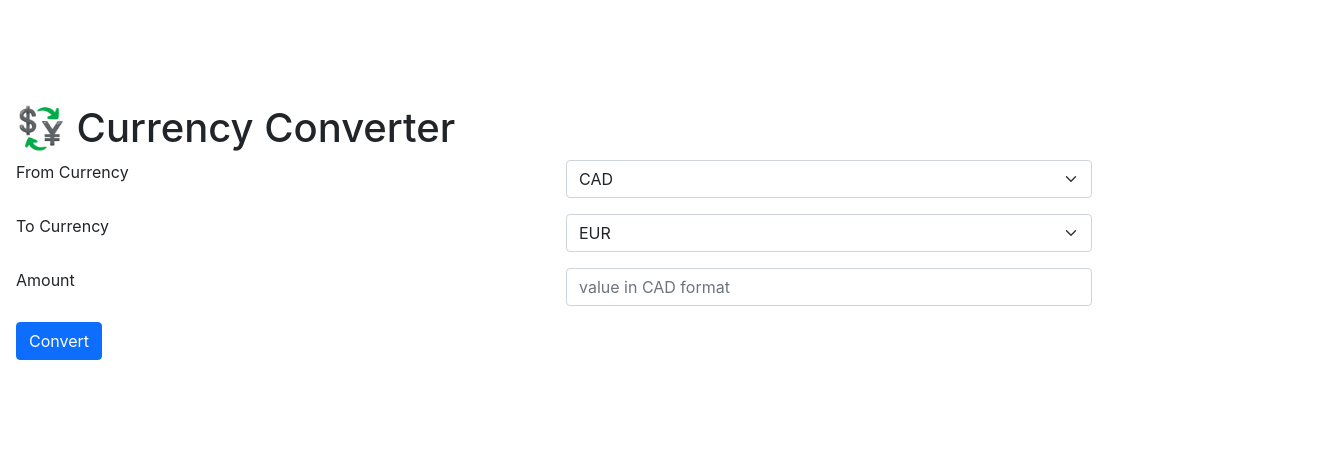
Scenario: Exchange › Should fetch the exchange rate when the user clicks the convert button
The image size is (1329, 449).
Type "5" into the number field with test id "enteredValue".
click(829, 287); type("5")  # box [566,268,1092,306]
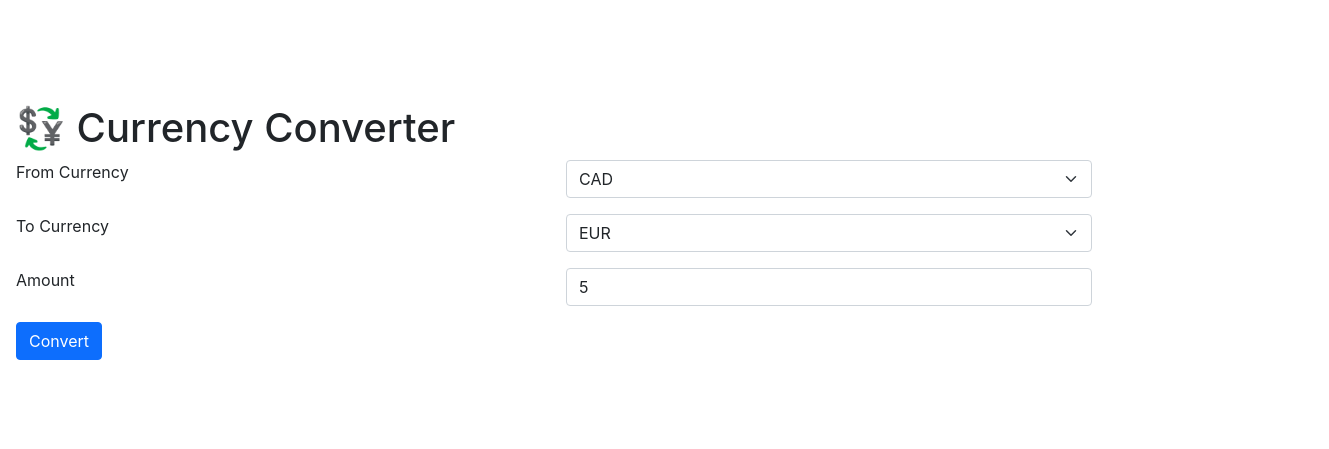
Click the button with test id "convert".
click(59, 341)  # box [16,322,102,360]
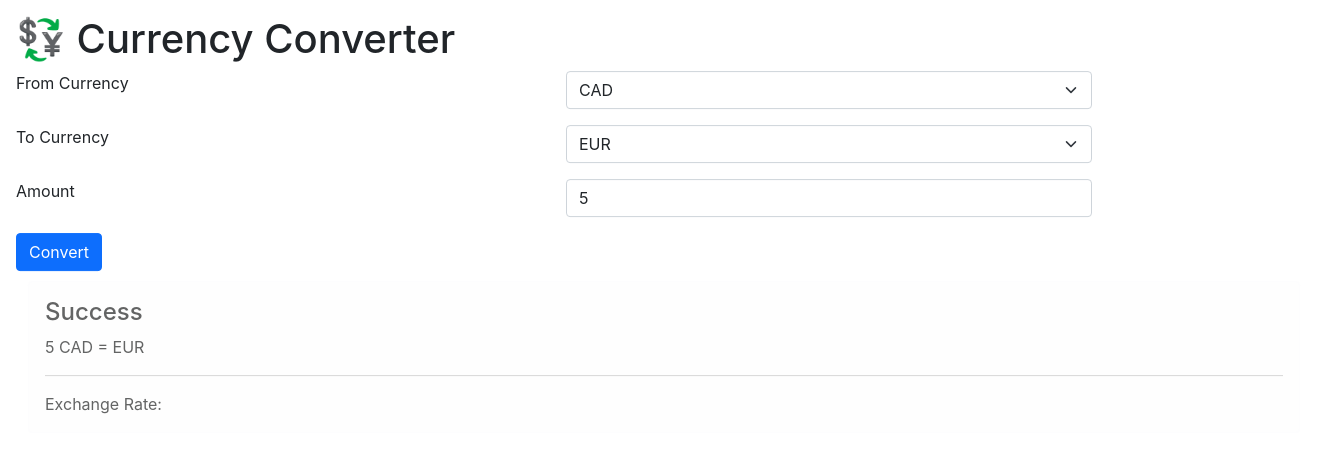
Result: the element with test id "exchange-result" is shown at [16,281,1312,433]
